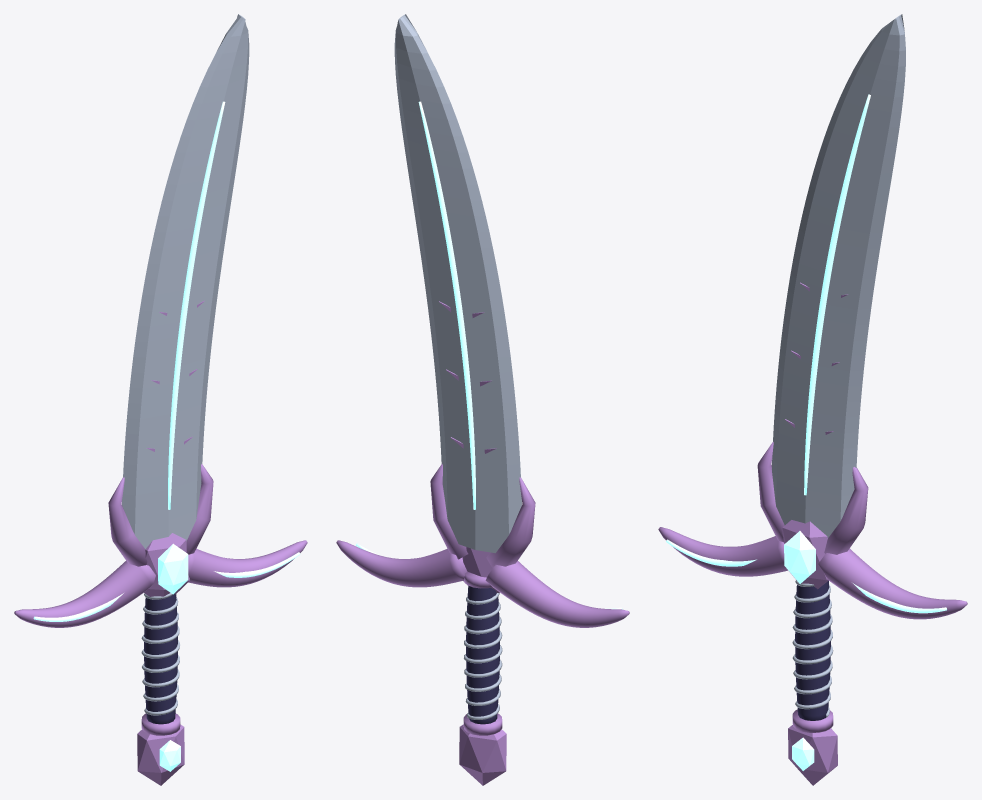
Rendered from frost_aurora.glb.
The picture shows the model from 3 angles, left to right: view 1: azimuth 30°, elevation 25°; view 2: azimuth 150°, elevation 25°; view 3: azimuth 330°, elevation 25°; orthographic projection. The views are drawn at different scales.
Visible parts, largest first — view 1: Aurora Edge blade, Swept guard wing.010, Tapered leather grip.005, Swept guard wing.011, Curved fuller inlay.010, Faceted pommel.005, Helical grip binding.005, Crown blade prong.006, Guard gemstone.005, Crown blade prong.007, Guard socket.005, Grip collar.010 (+1 smaller); view 2: Aurora Edge blade, Swept guard wing.010, Tapered leather grip.005, Swept guard wing.011, Curved fuller inlay.011, Faceted pommel.005, Crown blade prong.006, Helical grip binding.005, Crown blade prong.007, Guard socket.005, Grip collar.010; view 3: Aurora Edge blade, Swept guard wing.011, Tapered leather grip.005, Swept guard wing.010, Curved fuller inlay.010, Crown blade prong.007, Helical grip binding.005, Faceted pommel.005, Crown blade prong.006, Guard gemstone.005, Guard socket.005, Grip collar.010 (+1 smaller).
Part boxes in pixels (<box>): Aurora Edge blade: <box>121,14,249,554</box>; Swept guard wing.010: <box>14,561,155,627</box>; Tapered leather grip.005: <box>144,594,177,724</box>; Swept guard wing.011: <box>188,540,307,587</box>; Curved fuller inlay.010: <box>168,101,225,509</box>; Faceted pommel.005: <box>137,724,184,785</box>; Helical grip binding.005: <box>141,592,179,715</box>; Crown blade prong.006: <box>108,477,147,566</box>; Guard gemstone.005: <box>158,543,188,594</box>; Crown blade prong.007: <box>186,464,213,554</box>; Guard socket.005: <box>144,533,189,596</box>; Grip collar.010: <box>141,713,180,735</box>; Aurora Edge blade: <box>394,14,522,554</box>; Swept guard wing.010: <box>485,561,629,627</box>; Tapered leather grip.005: <box>466,585,499,724</box>; Swept guard wing.011: <box>336,540,467,587</box>; Curved fuller inlay.011: <box>418,101,475,509</box>; Faceted pommel.005: <box>459,724,506,785</box>; Crown blade prong.006: <box>486,477,535,567</box>; Helical grip binding.005: <box>463,593,502,719</box>; Crown blade prong.007: <box>430,464,468,559</box>; Guard socket.005: <box>462,547,499,592</box>; Grip collar.010: <box>463,713,502,735</box>; Aurora Edge blade: <box>772,14,905,541</box>; Swept guard wing.011: <box>818,548,967,619</box>; Tapered leather grip.005: <box>795,580,830,720</box>; Swept guard wing.010: <box>658,527,787,576</box>; Curved fuller inlay.010: <box>804,94,870,495</box>; Crown blade prong.007: <box>824,467,868,554</box>; Helical grip binding.005: <box>792,580,833,717</box>; Faceted pommel.005: <box>788,725,837,785</box>; Crown blade prong.006: <box>757,442,784,541</box>; Guard gemstone.005: <box>784,531,815,583</box>; Guard socket.005: <box>782,520,828,589</box>; Grip collar.010: <box>792,709,833,732</box>.
Bounding box in the file's own units: 2.35 × 5.75 × 0.3739.
